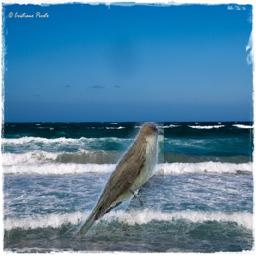Cuckoo: (74, 122, 165, 236)
